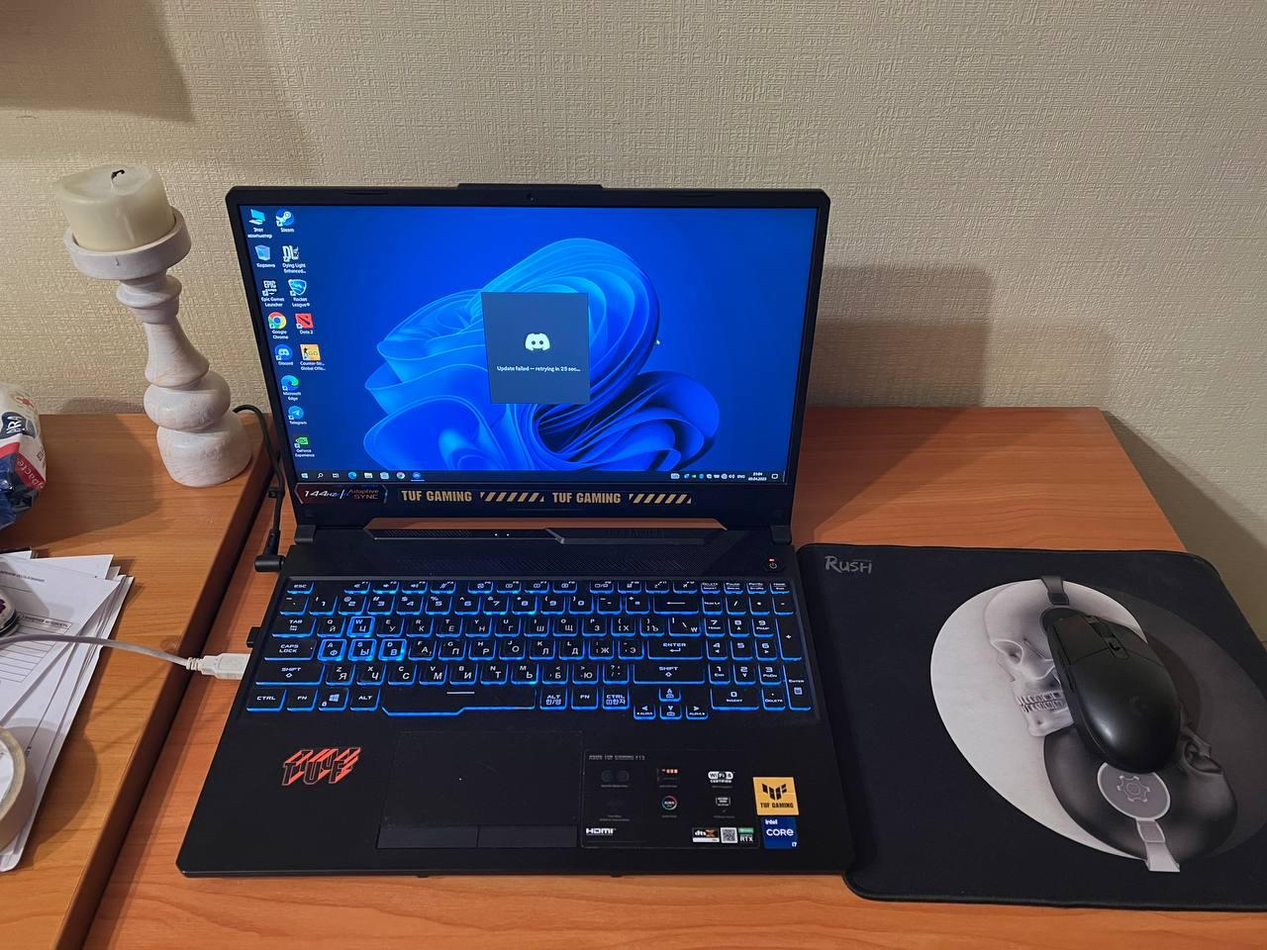monitor: (218, 176, 833, 536)
